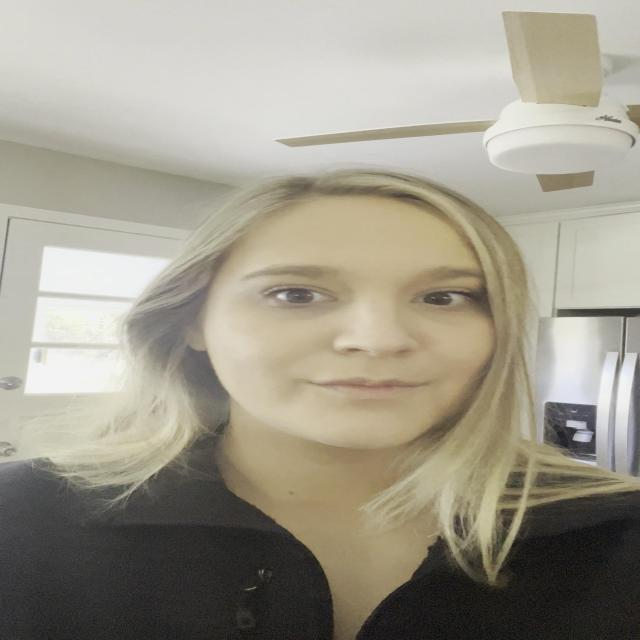no hat: (174, 186, 524, 500)
